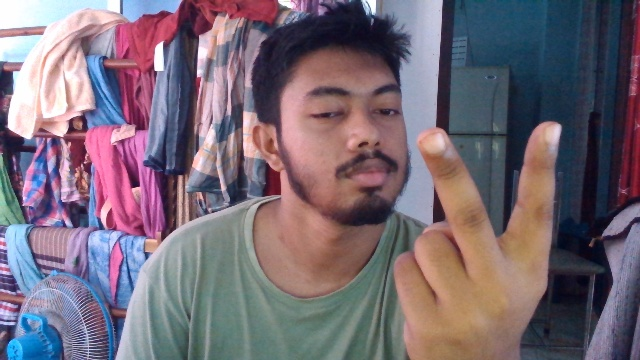thanks: (386, 112, 566, 360)
